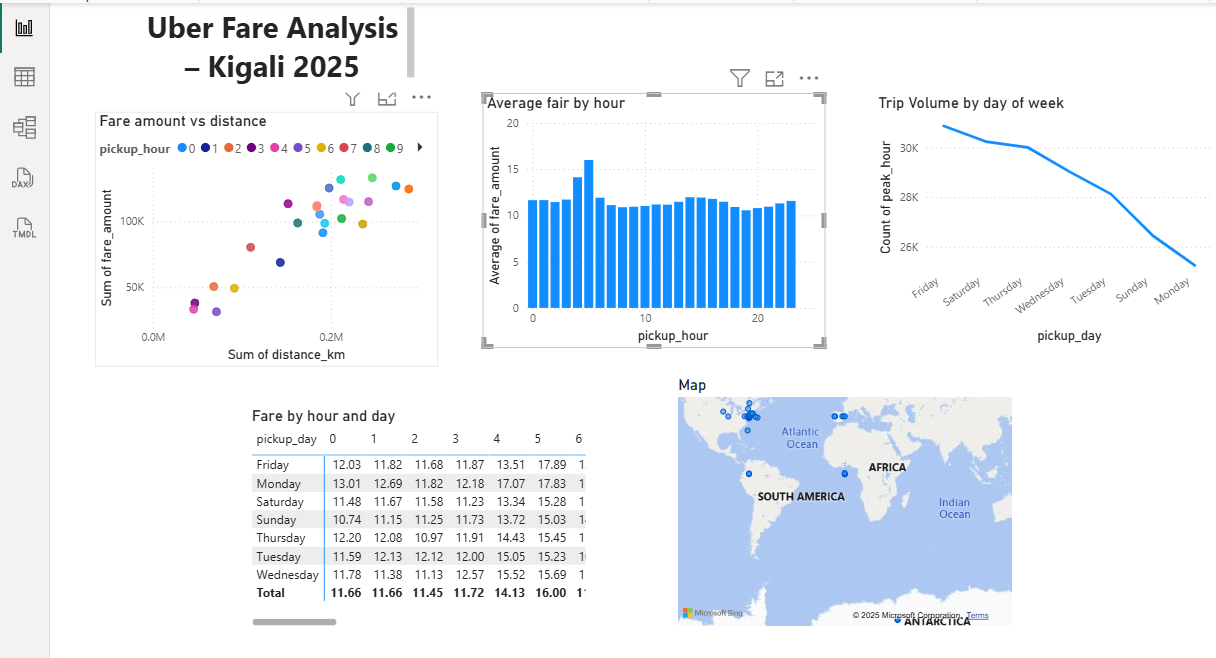

The page's visual inventory and layout, read from the dashboard file:
{"tool":"powerbi","page":{"name":"Page 1","canvas":[1280,720],"ordinal":0},"visuals":[{"type":"scatterChart","title":"Fare amount vs distance","fields":{"X":["Sum(cleaned_uber_fares.distance_km)"],"Y":["Sum(cleaned_uber_fares.fare_amount)"],"Series":["cleaned_uber_fares.pickup_hour"]},"box":[49.4,119.4,376,279.9],"z":0},{"type":"clusteredColumnChart","title":"Average fair by hour","fields":{"Y":["Avg(cleaned_uber_fares.fare_amount)"],"Category":["cleaned_uber_fares.pickup_hour"]},"box":[474.8,98.8,376,279.9],"z":1},{"type":"lineChart","title":"Trip Volume by day of week","fields":{"Category":["cleaned_uber_fares.pickup_day"],"Y":["CountNonNull(cleaned_uber_fares.peak_hour)"]},"box":[904.3,98.8,376,279.9],"z":2},{"type":"pivotTable","title":"Fare by hour and day","fields":{"Rows":["cleaned_uber_fares.pickup_day"],"Columns":["cleaned_uber_fares.pickup_hour"],"Values":["Avg(cleaned_uber_fares.fare_amount)"]},"box":[216.8,443.2,376,245.6],"z":3},{"type":"map","title":"Map","fields":{"Y":["cleaned_uber_fares.pickup_latitude"],"X":["cleaned_uber_fares.pickup_longitude"]},"box":[684.7,408.9,376,279.9],"z":4},{"type":"textbox","box":[91.9,0,312.9,98.8],"z":5}]}

Visuals, with their boxes on the page's 1280x720 design canvas (x1, y1, x2, y2). These are canvas units, not pixel positions in the 1216x658 screenshot, which may show the page scaled, cropped or inside an application window:
"Fare amount vs distance" scatterChart: [49, 119, 425, 399]
"Average fair by hour" clusteredColumnChart: [475, 99, 851, 379]
"Trip Volume by day of week" lineChart: [904, 99, 1280, 379]
"Fare by hour and day" pivotTable: [217, 443, 593, 689]
"Map" map: [685, 409, 1061, 689]
textbox: [92, 0, 405, 99]
